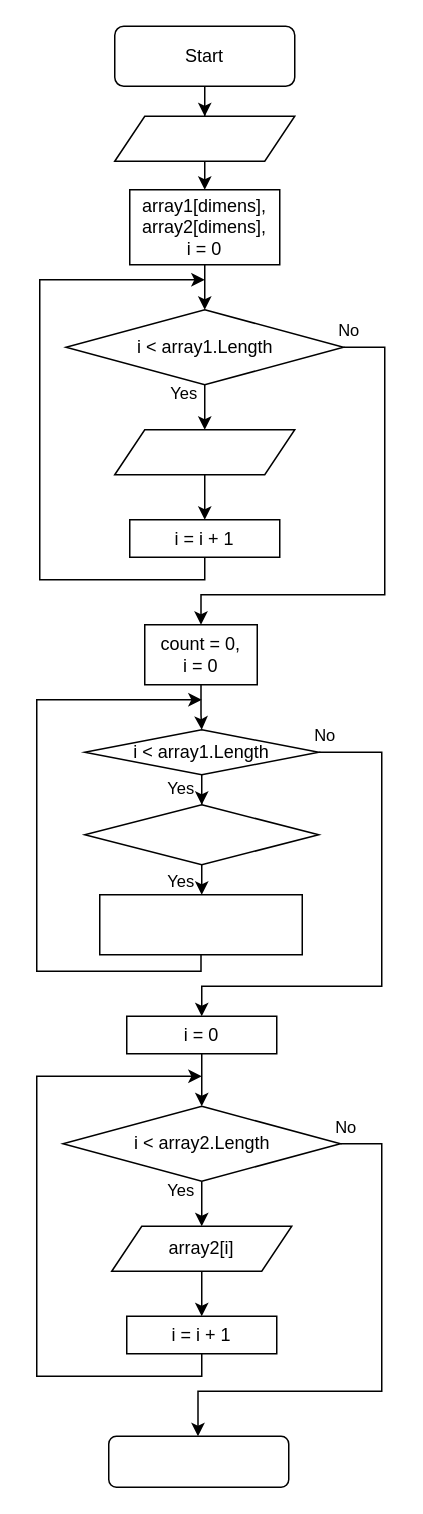
Image size: 423x1514. Some labels were removed from this diagram. Here are the shapes that lost their labels. From the top down, the box of each, then its label:
(113, 115, 295, 161): dimens
(113, 428, 295, 475): array1[i]
(83, 803, 319, 865): array1[i].Length < 3
(98, 893, 302, 955): array2[count] = array1[i] i = i + 1 count = count + 1
(107, 1435, 289, 1487): Stop
